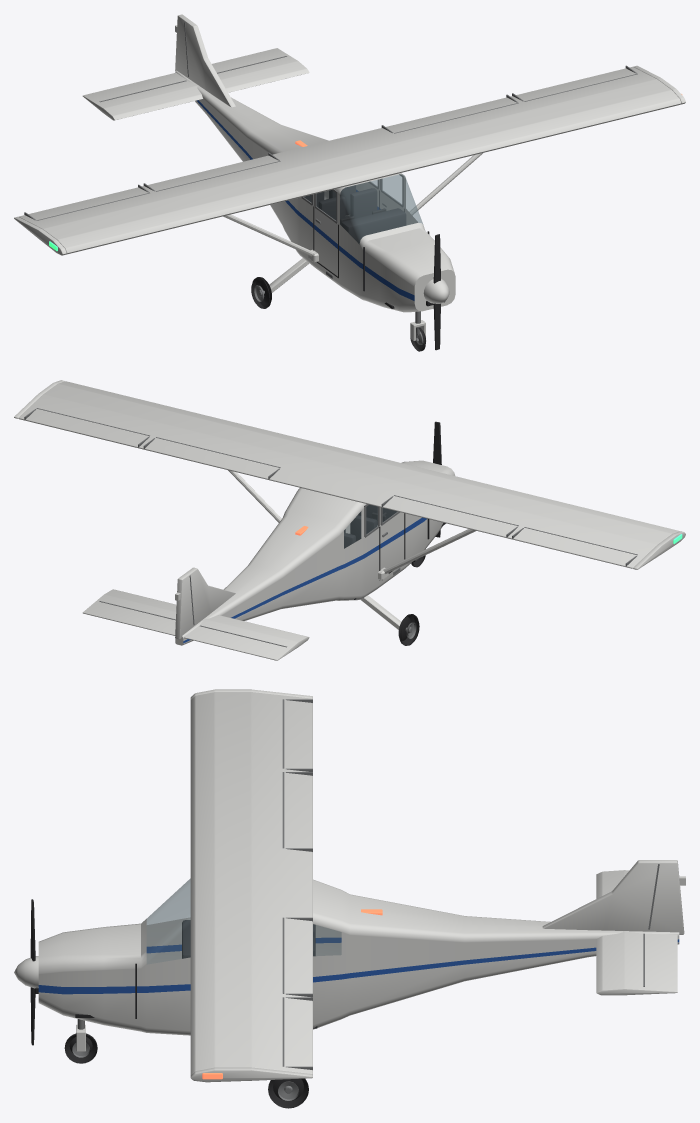
File: SmallPlane.fbx
3 views of the same model, one above another, from view 1: azimuth 30°, elevation 25°; view 2: azimuth 150°, elevation 25°; view 3: azimuth 270°, elevation 25° (orthographic). The views are drawn at different scales.
Parts seen in each view (by area): view 1: SmallPlane_Mesh; view 2: SmallPlane_Mesh; view 3: SmallPlane_Mesh.
Part boxes in pixels (x1=…): SmallPlane_Mesh: x1=14, y1=14, x2=685, y2=351; SmallPlane_Mesh: x1=14, y1=380, x2=685, y2=660; SmallPlane_Mesh: x1=14, y1=689, x2=685, y2=1108.
Size of the model in its own units: 11.04 by 2.72 by 8.2.
